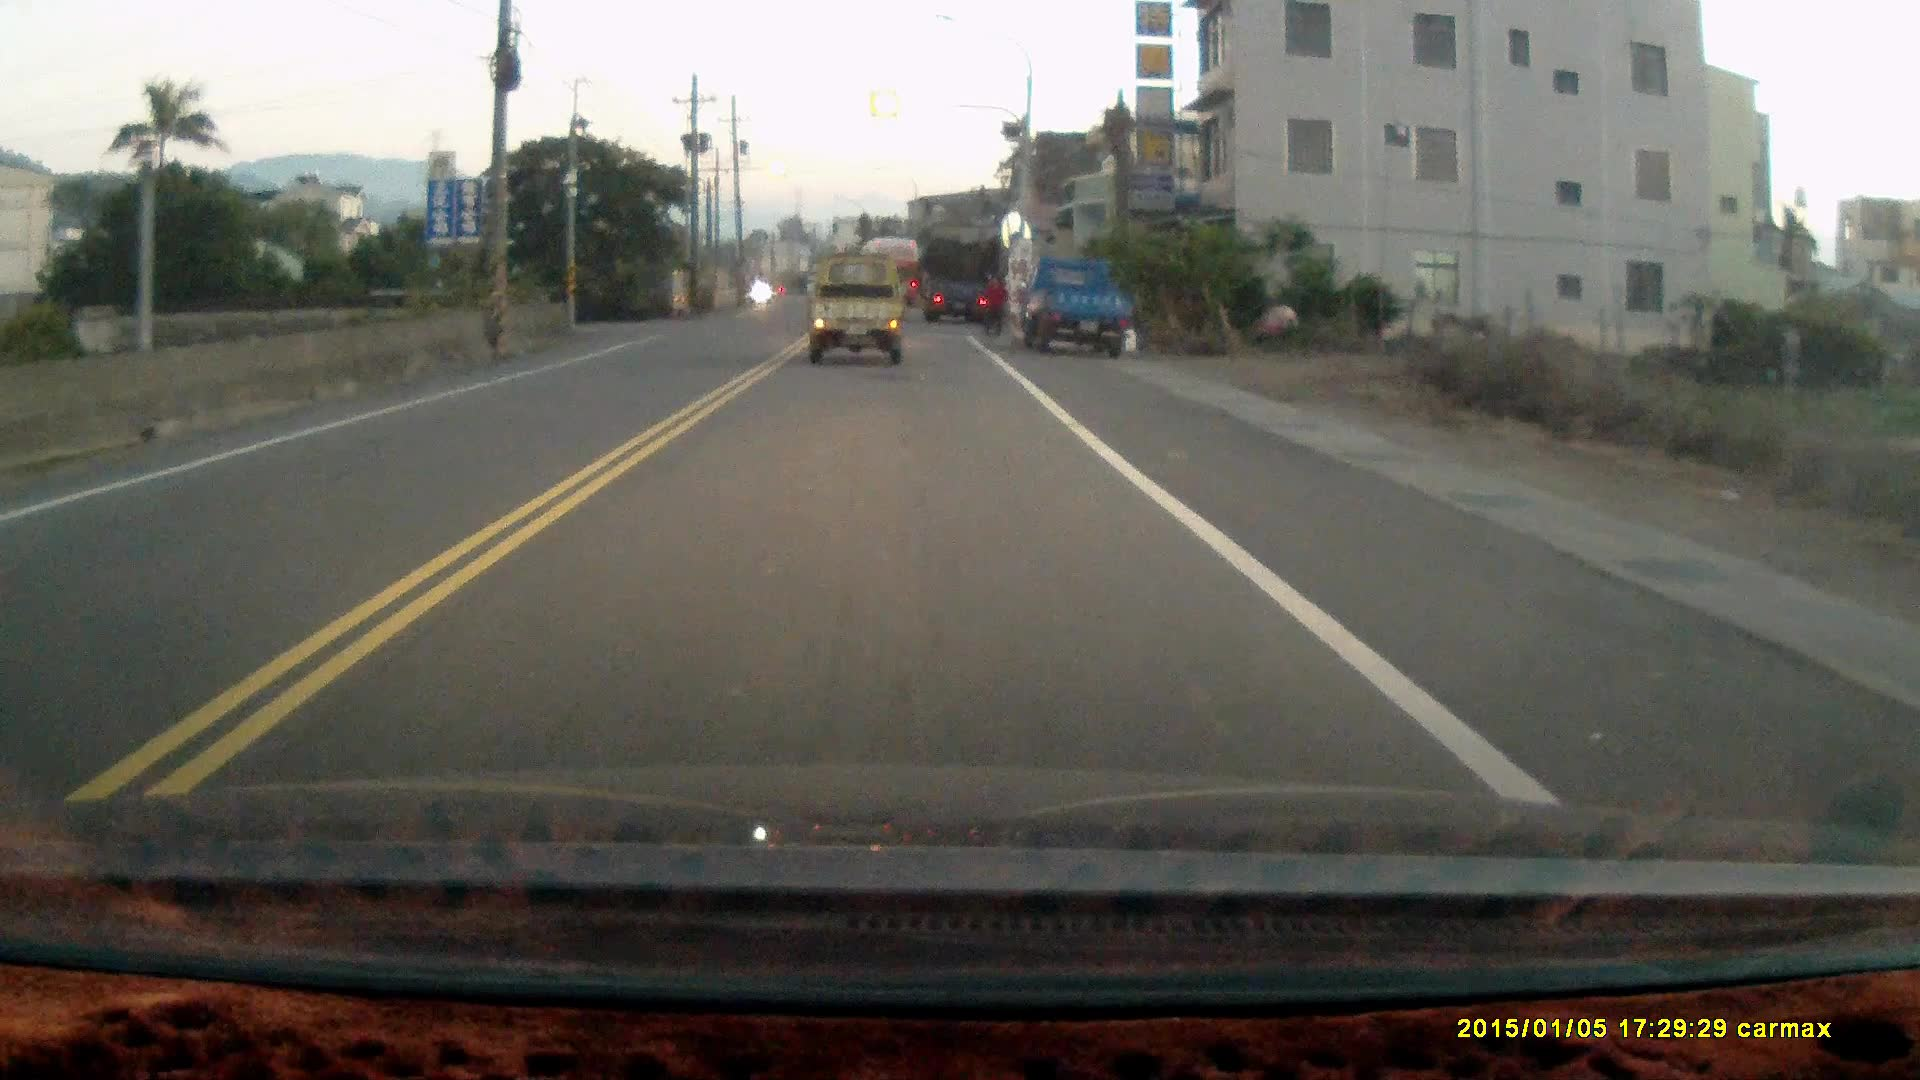pedestrian: (979, 272, 1005, 340)
vehicle: (808, 257, 909, 371), (1014, 257, 1128, 354), (922, 242, 1001, 320)
